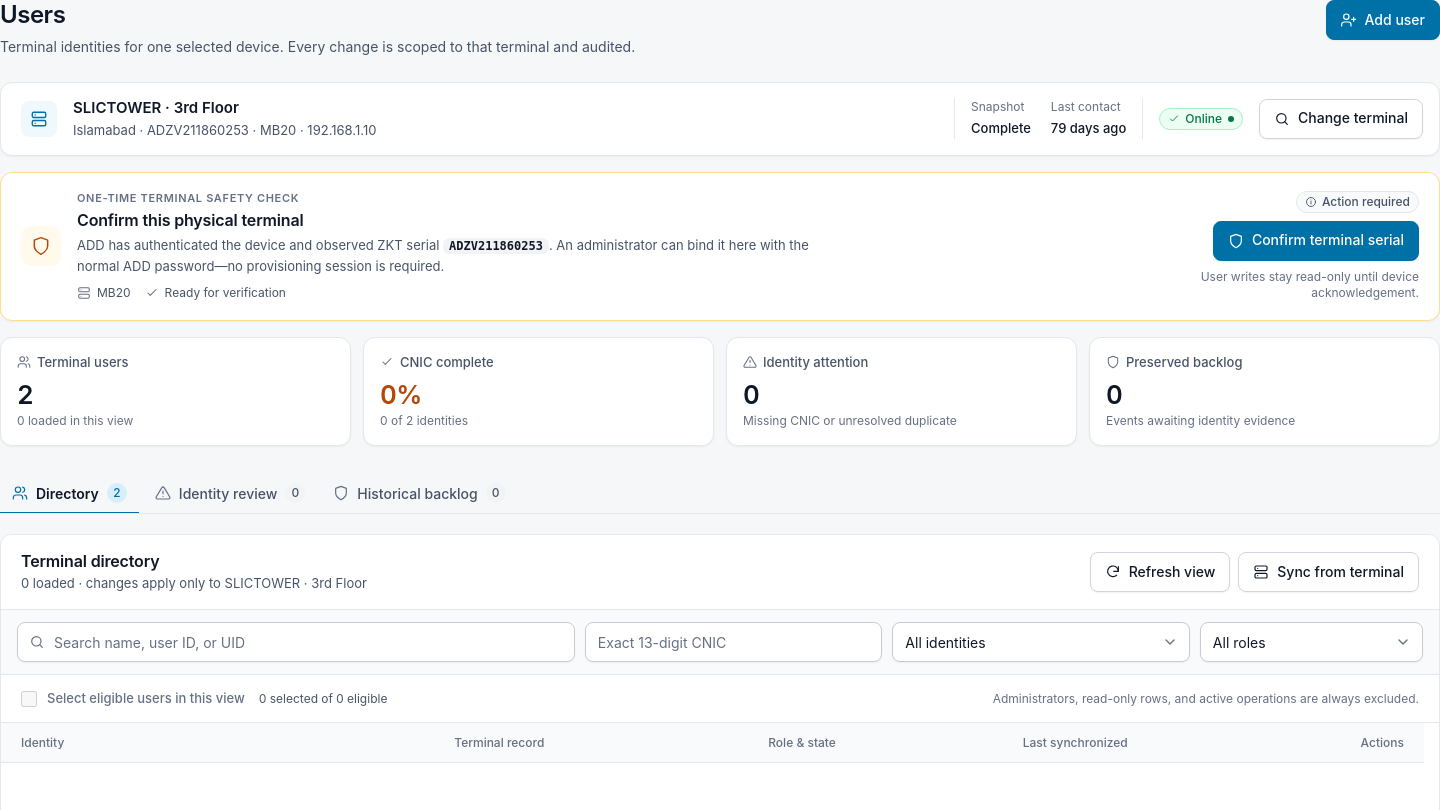
it: Selected-terminal users workspace › offers authenticated repinning for a migrated terminal with no expected serial
The width and height of the screenshot is (1440, 810).
Check: the heading "Confirm this physical terminal" is shown, box top-left (77, 210), bottom-right (304, 230)
Click the button "Confirm terminal serial".
click(1316, 241)  # box top-left (1213, 221), bottom-right (1419, 261)
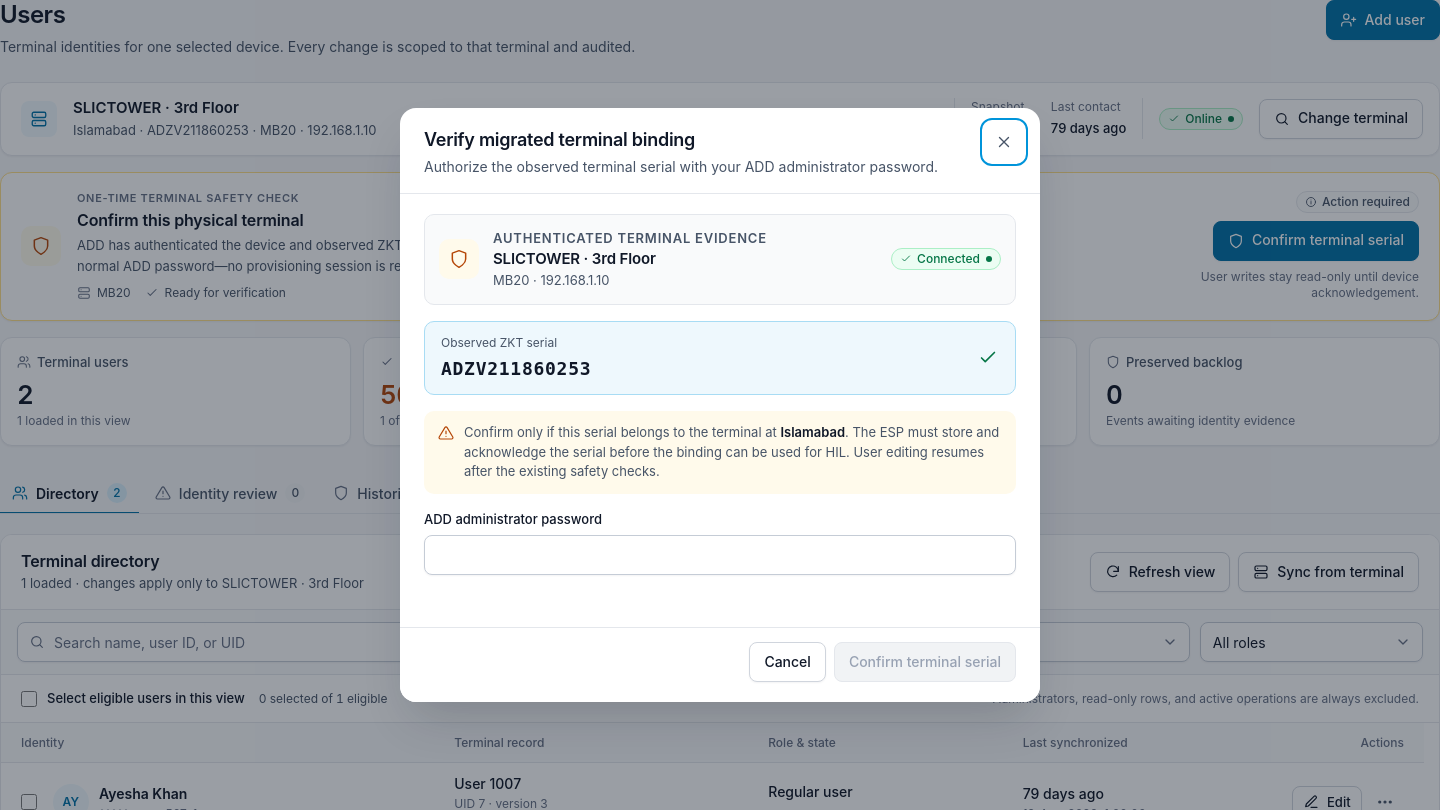
Check: the heading "Verify migrated terminal binding" is shown, box top-left (424, 129), bottom-right (695, 150)
